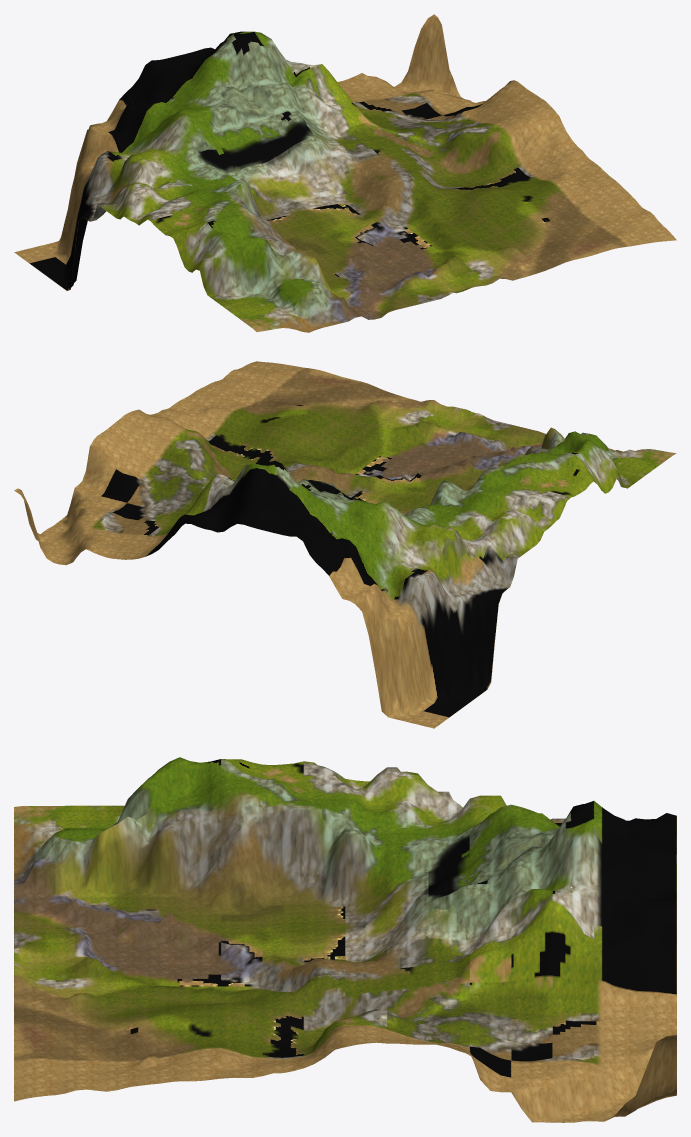
Rendered from terrain.glb.
3 views of the same model, one above another, from view 1: azimuth 30°, elevation 25°; view 2: azimuth 150°, elevation 25°; view 3: azimuth 270°, elevation 25° (orthographic). The views are drawn at different scales.
Parts seen in each view (by area): view 1: terrain_2_3; view 2: terrain_2_3; view 3: terrain_2_3.
Boxes of the visible parts, bbox=[...] form: terrain_2_3: bbox=[14, 14, 676, 332]; terrain_2_3: bbox=[14, 361, 676, 728]; terrain_2_3: bbox=[14, 757, 676, 1122].
Bounding box in the file's own units: 512 × 227 × 512.
1 material, 1 textured.
